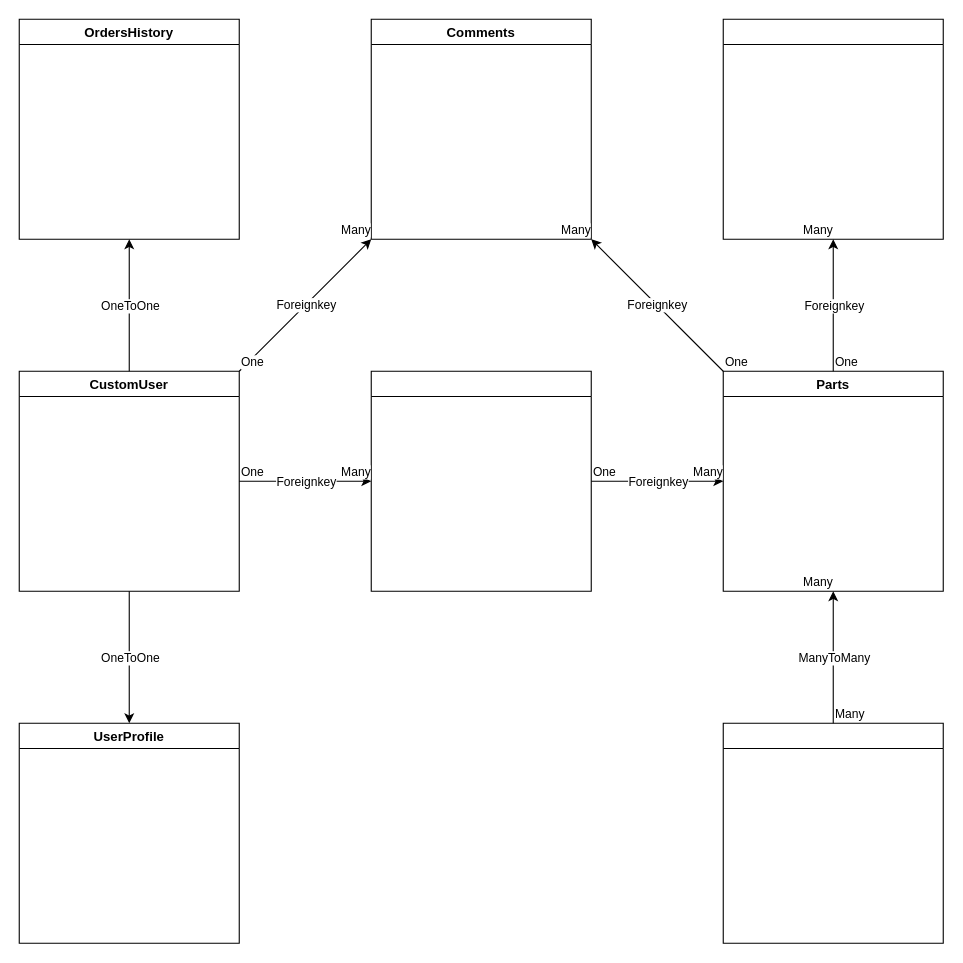
This 963x963 diagram has some shape labels left out. Here are the shapes that lost their labels. From the top down, the centre of each, then its label:
(x=832, y=128): Shops
(x=480, y=480): Cart
(x=832, y=832): MachineModel
